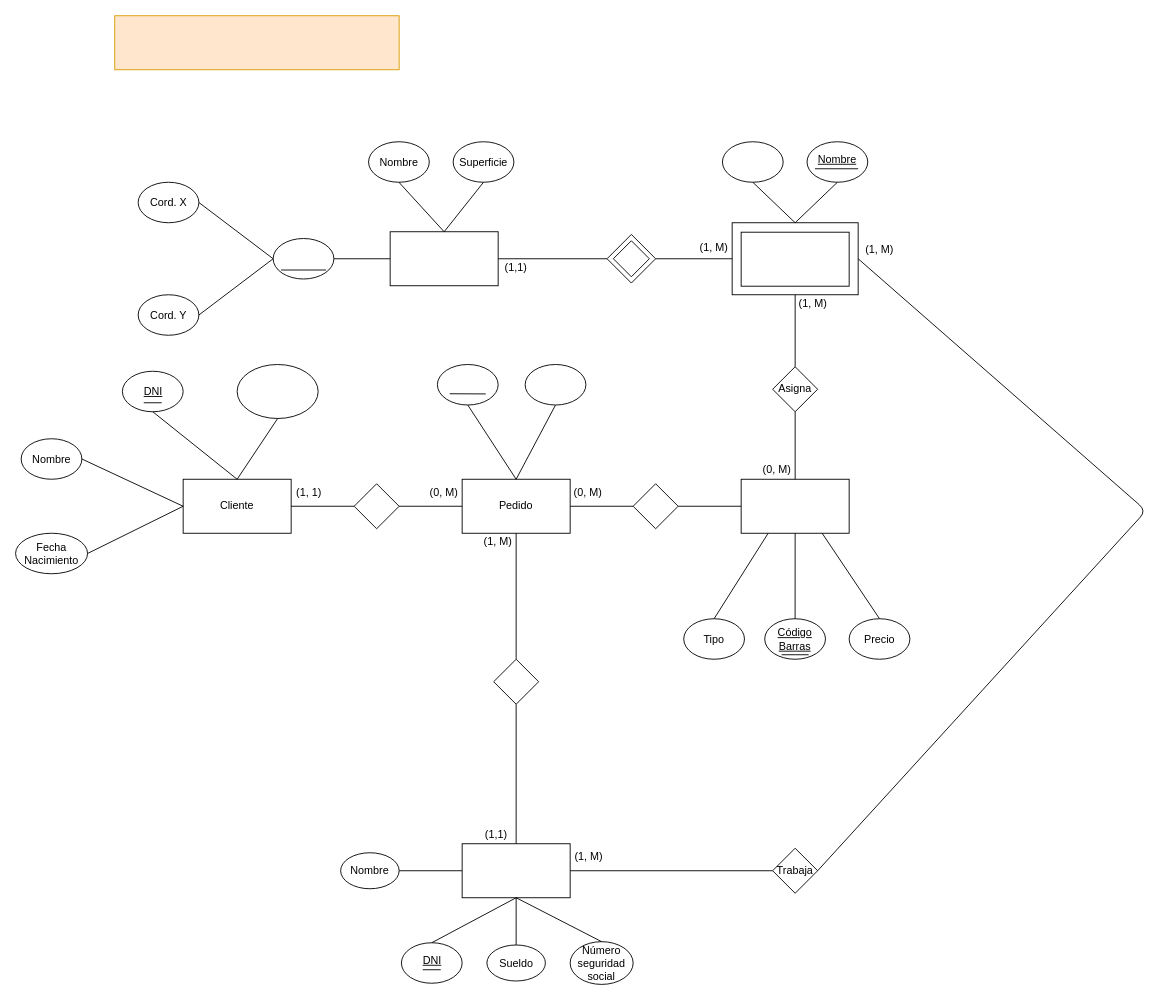
Image size: 1164x1001. Some labels were removed from this diagram. The centre of each missing label's shape, as x and y in pixels:
"Código" belongs at (x=752, y=161).
"Código Fidelización" belongs at (x=277, y=391).
"Código Pedido" belongs at (x=467, y=384).
"Empleado" belongs at (x=515, y=870).
"Fecha" belongs at (x=555, y=384).
"Localizar" belongs at (x=303, y=258).
"NOMBRE: Francisco Javier Arocas Herrera ALU: Alu0100906813" belongs at (x=256, y=42).
"Productos" belongs at (x=794, y=505).
"Vivero" belongs at (x=443, y=258).
"Zona" belongs at (x=794, y=258).
